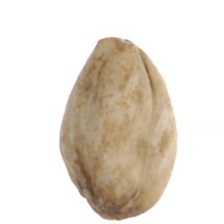L1: (79, 191, 133, 220), (96, 32, 143, 57)
L2: (58, 37, 177, 220)
